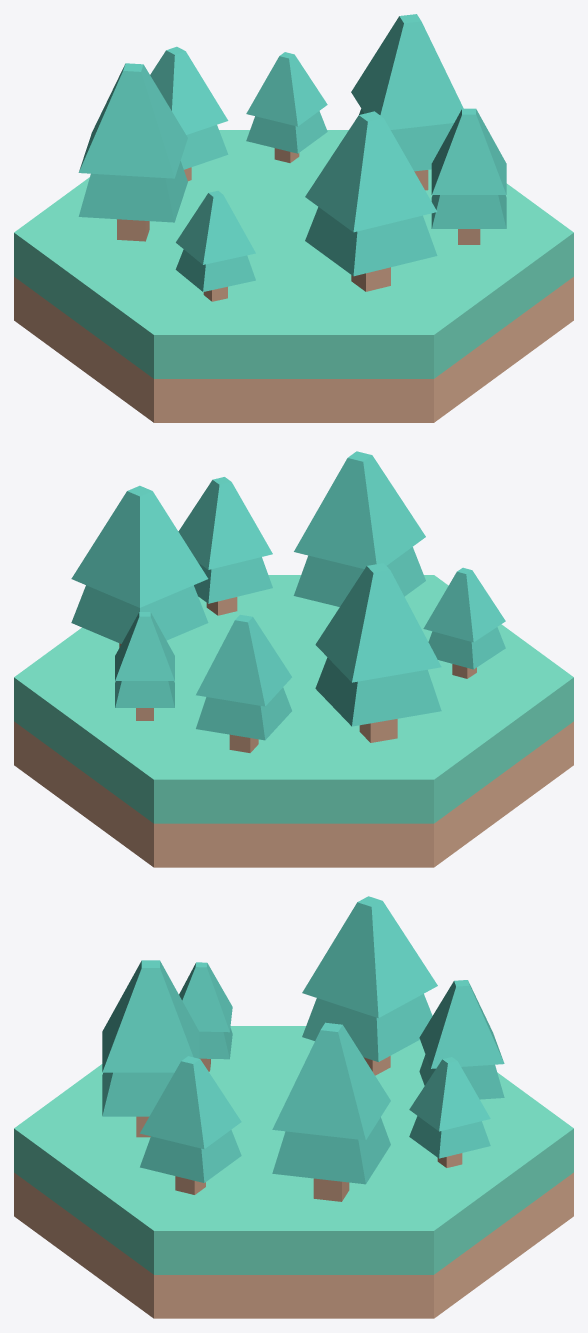
The model's file is wood-transformed.glb.
The picture shows the model from 3 angles, top to bottom: view 1: azimuth 30°, elevation 25°; view 2: azimuth 150°, elevation 25°; view 3: azimuth 270°, elevation 25°; orthographic projection.
Visible parts, largest first — view 1: grass_forest, tree1; view 2: grass_forest, tree1; view 3: grass_forest, tree1.
Part boxes in pixels (box(x1,y1,x2,y2)): grass_forest: box(14, 130, 573, 422); tree1: box(78, 14, 506, 301); grass_forest: box(14, 575, 573, 867); tree1: box(71, 451, 505, 752); grass_forest: box(14, 1026, 573, 1318); tree1: box(102, 896, 504, 1201).
Size of the model in its own units: 1 by 0.58 by 1.15.
